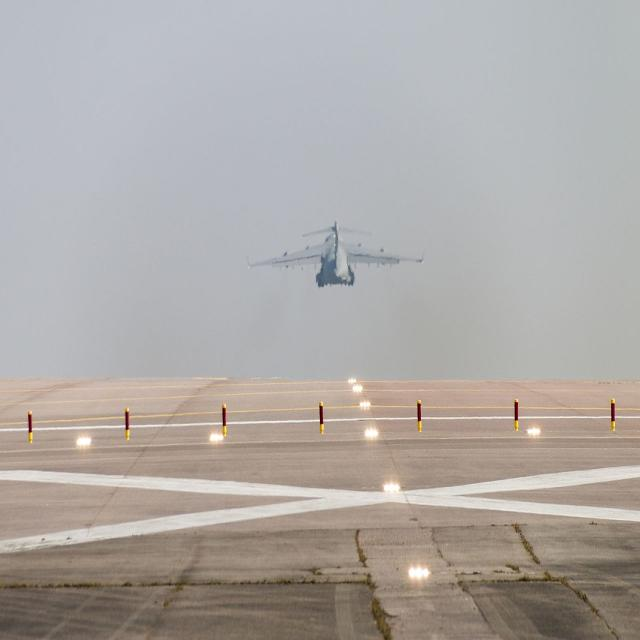MIL_Plane: (268, 221, 404, 286)
